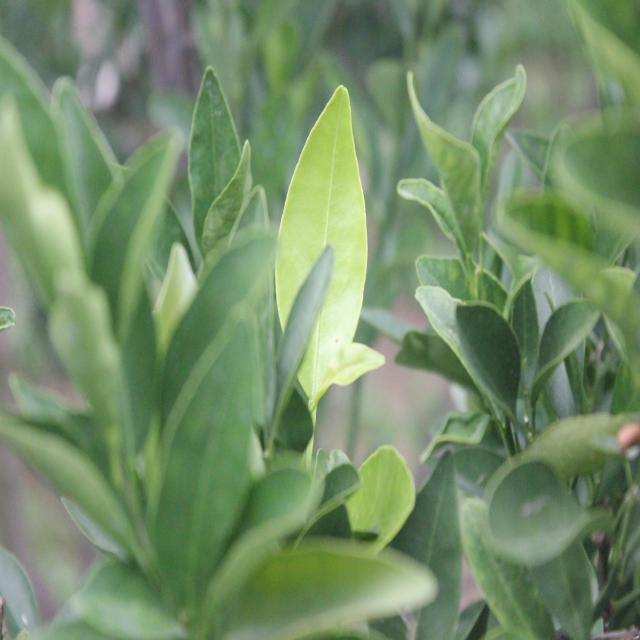greening: (281, 95, 372, 411), (520, 191, 640, 333), (421, 90, 486, 258)
